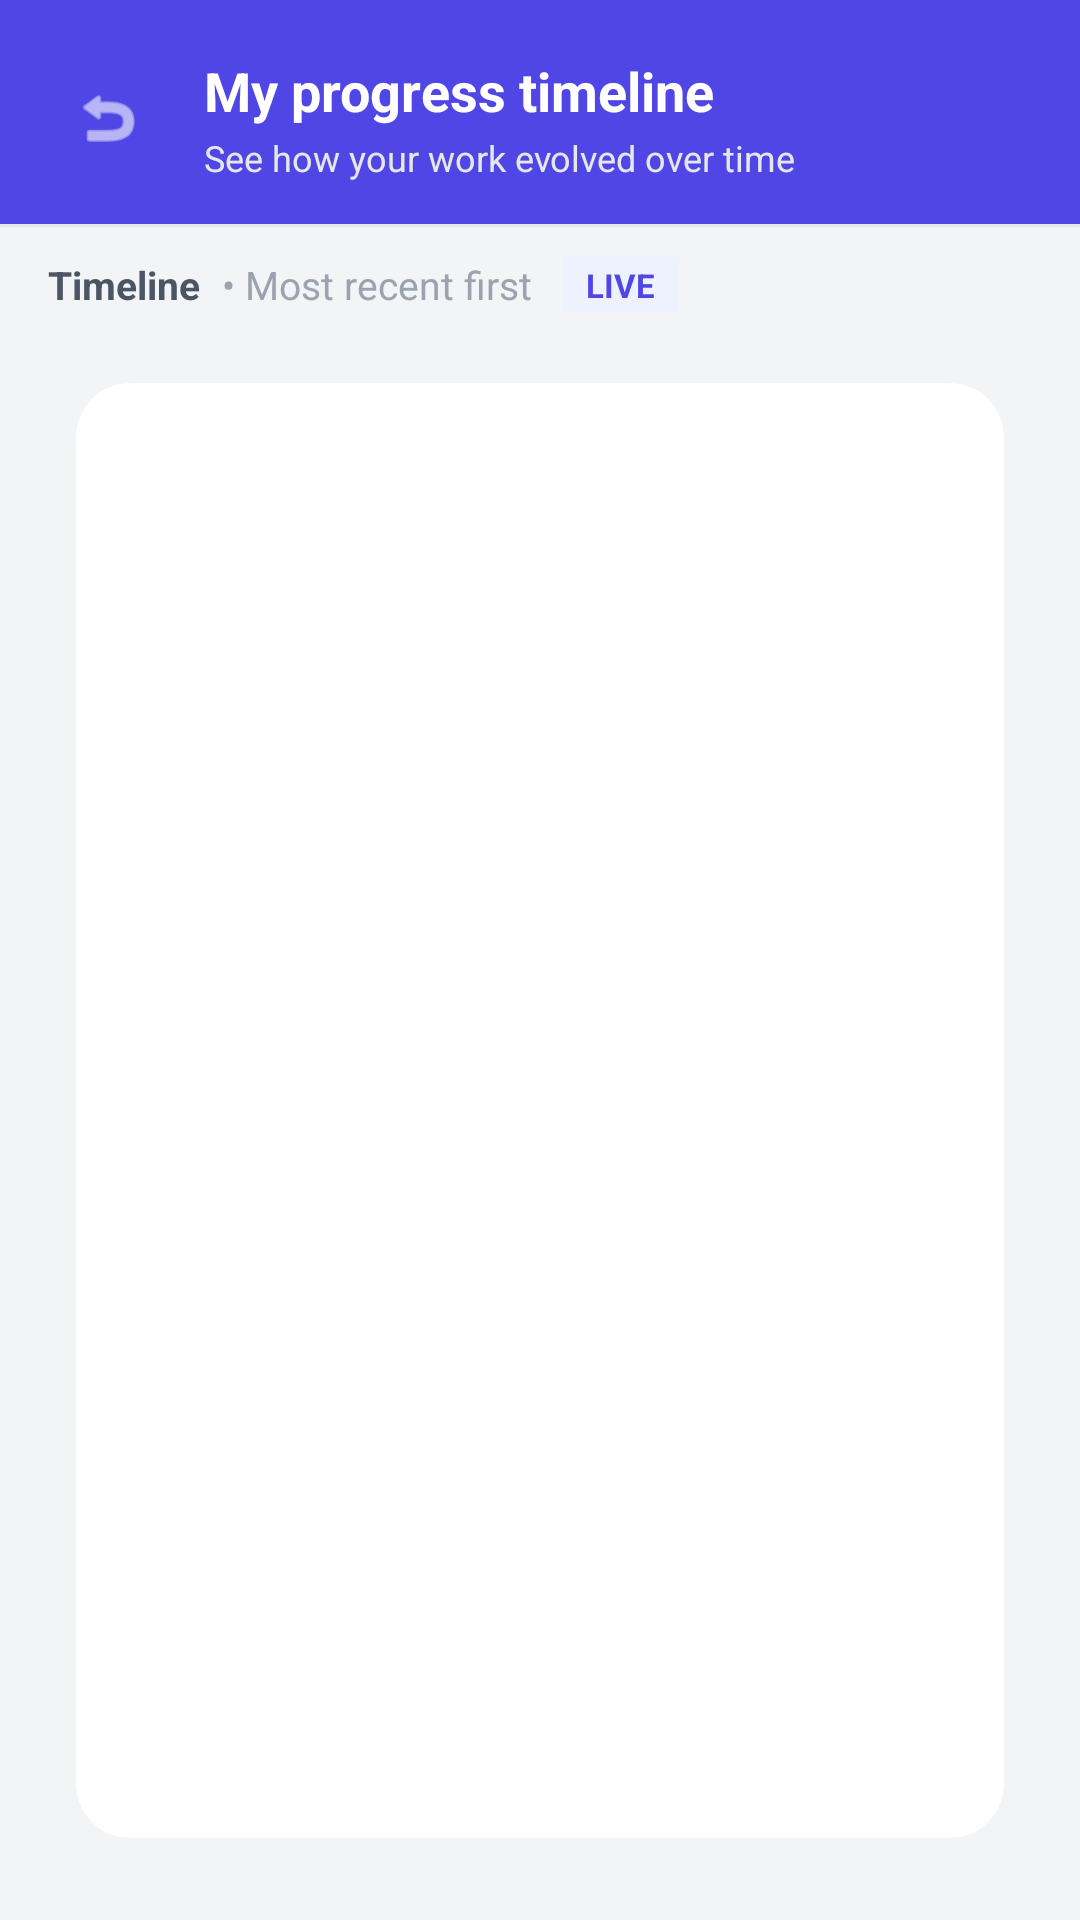

Where icons sit on this 1080w x 1920h app screen, as detection(x1, y1, x2, y2):
Back: detection(83, 95, 135, 142)
